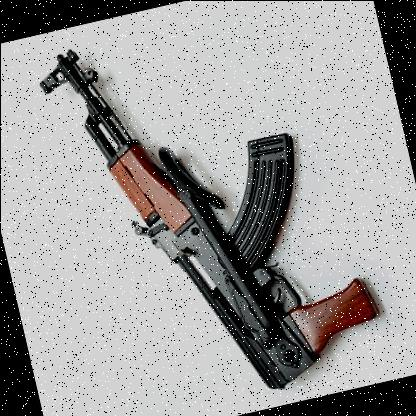rifle: (27, 0, 407, 416)
